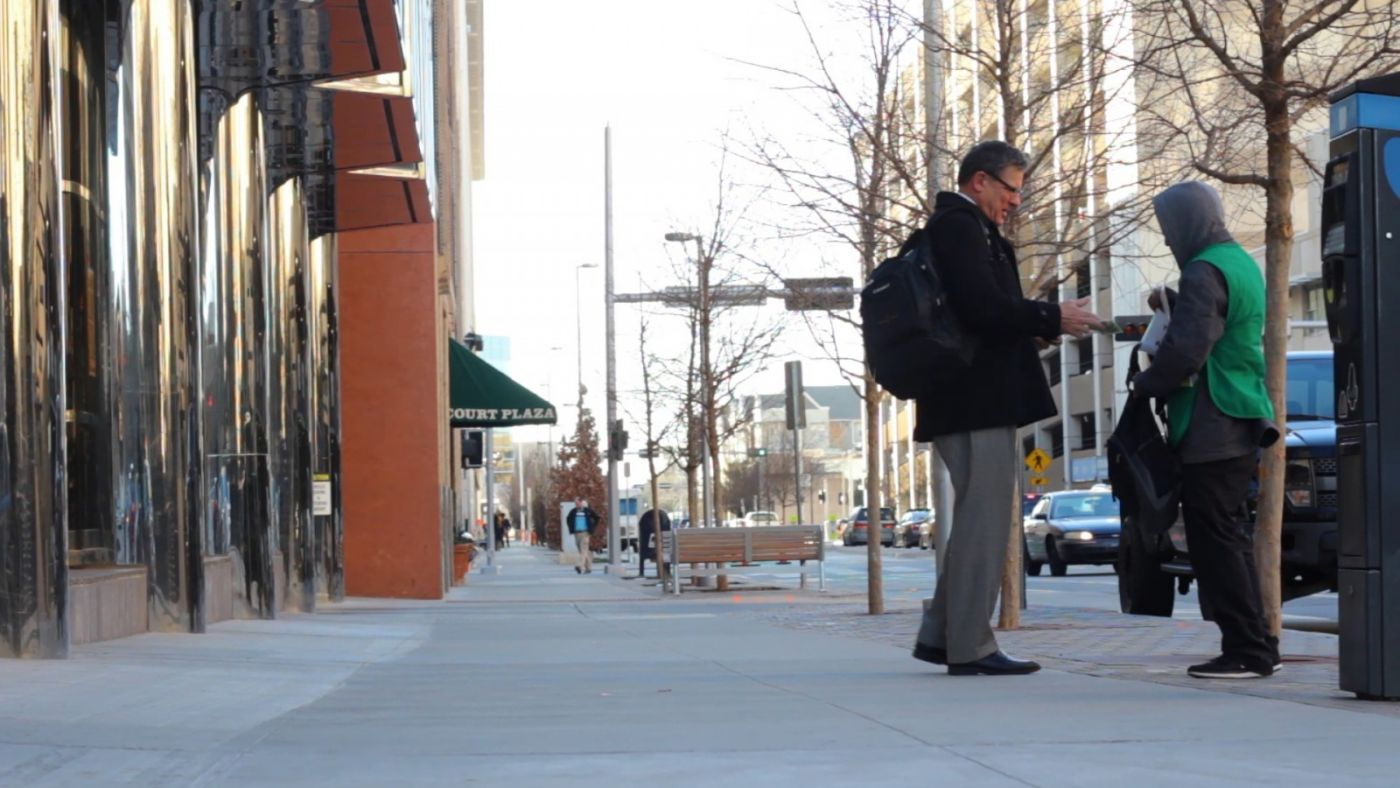person: (827, 133, 1098, 685), (1102, 167, 1302, 699), (555, 497, 610, 572)
